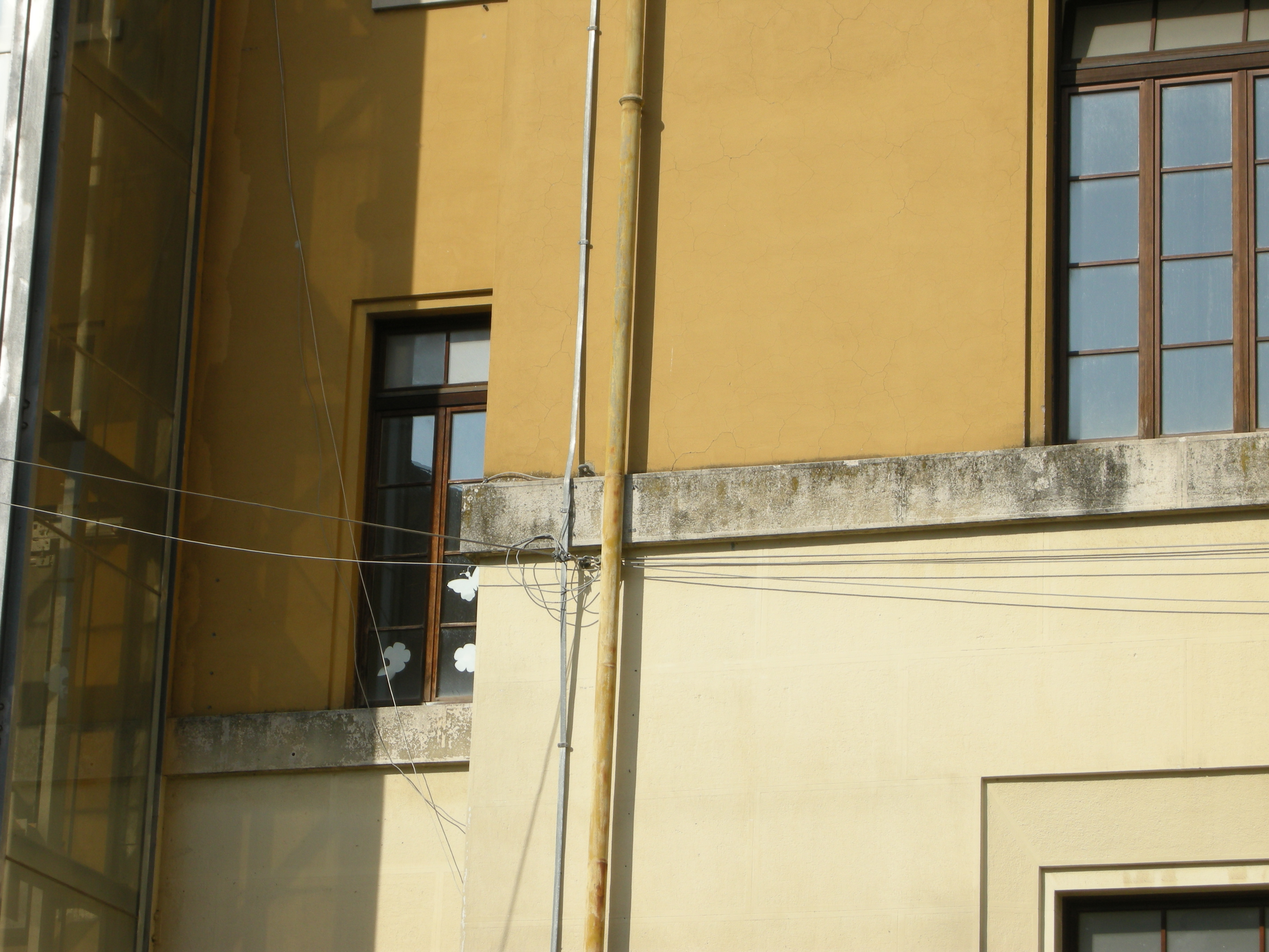Spalling: (650, 3, 1021, 468)
